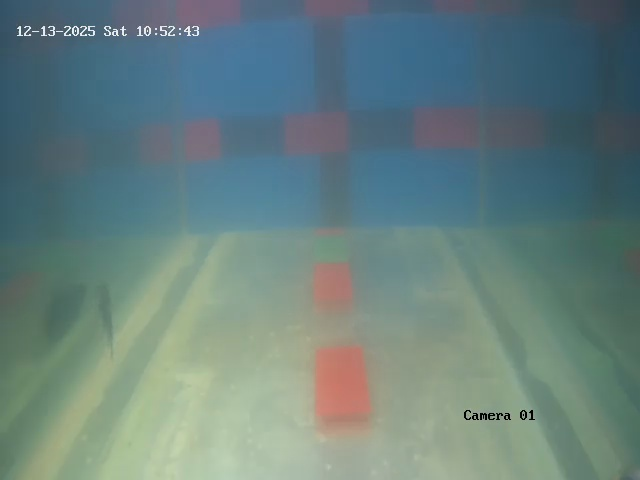fish: (89, 265, 130, 356)
